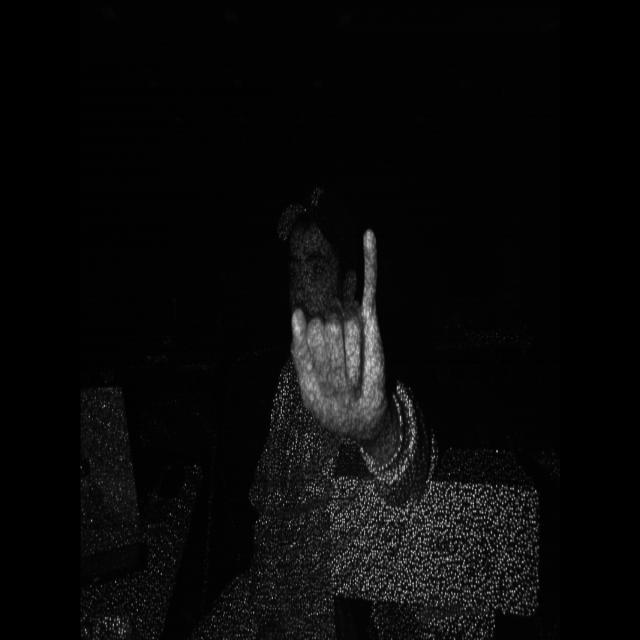I: (277, 208, 392, 438)
